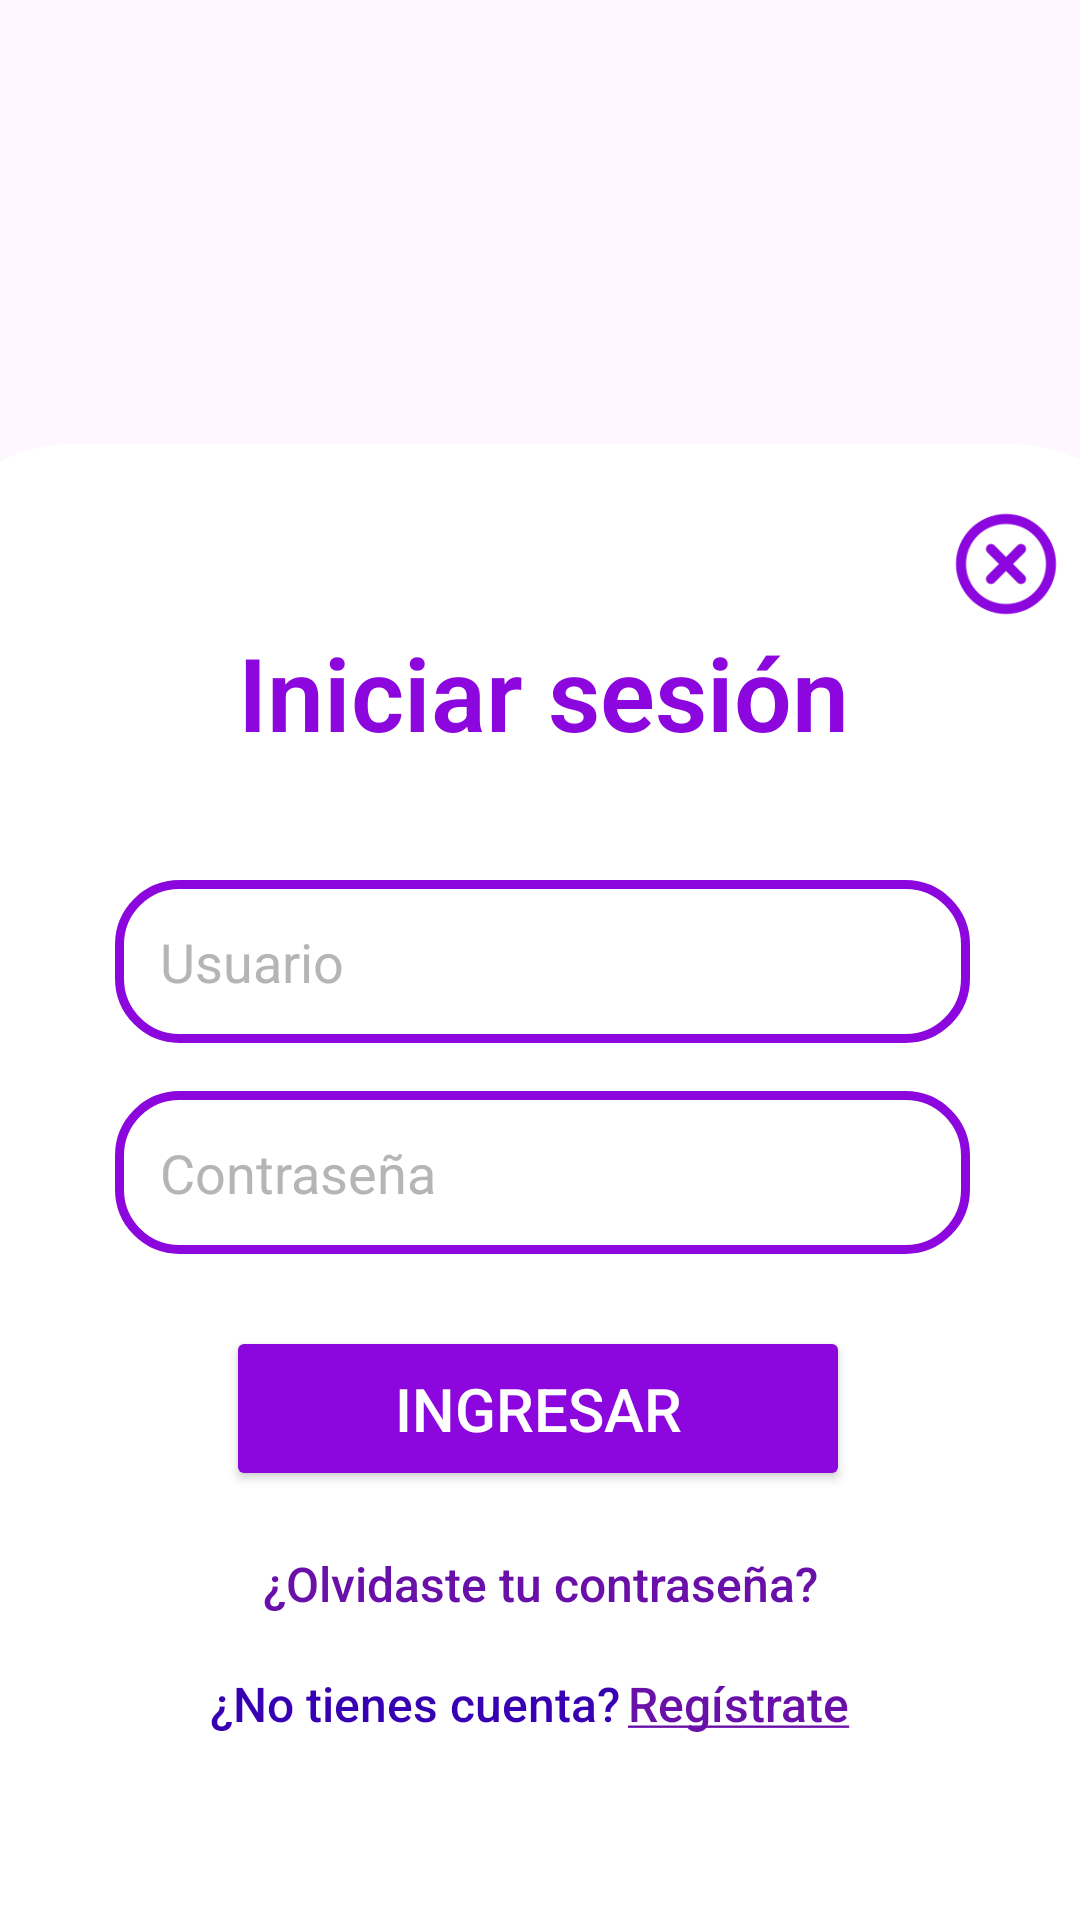

Where icons sit on this 1080px×1920px app screen, as (x1, y1, x2, y2):
close: (955, 513, 1057, 615)
